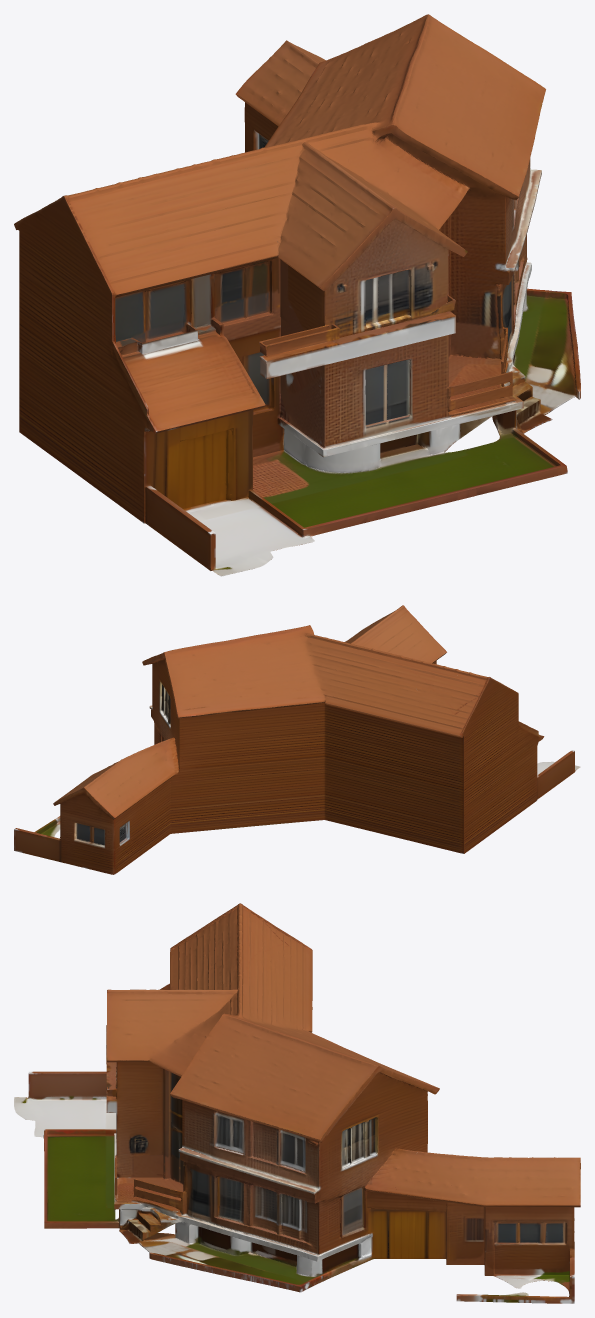
The model's file is exterior.glb.
3 views of the same model, one above another, from view 1: azimuth 30°, elevation 25°; view 2: azimuth 150°, elevation 25°; view 3: azimuth 270°, elevation 25° (orthographic). The views are drawn at different scales.
Visible parts, largest first — view 1: Object_4, Object_3, Object_2; view 2: Object_3, Object_4, Object_2; view 3: Object_3, Object_4, Object_2.
Boxes of the visible parts, x1,y1,x2,y2 form: Object_4: [14, 14, 580, 576]; Object_3: [235, 14, 580, 536]; Object_2: [23, 17, 579, 569]; Object_3: [19, 611, 486, 874]; Object_4: [14, 605, 580, 871]; Object_2: [49, 621, 530, 843]; Object_3: [44, 908, 580, 1303]; Object_4: [14, 903, 580, 1297]; Object_2: [27, 903, 572, 1297].
Bounding box in the file's own units: 1.63 × 0.729 × 1.9.
1 material, 1 textured.
